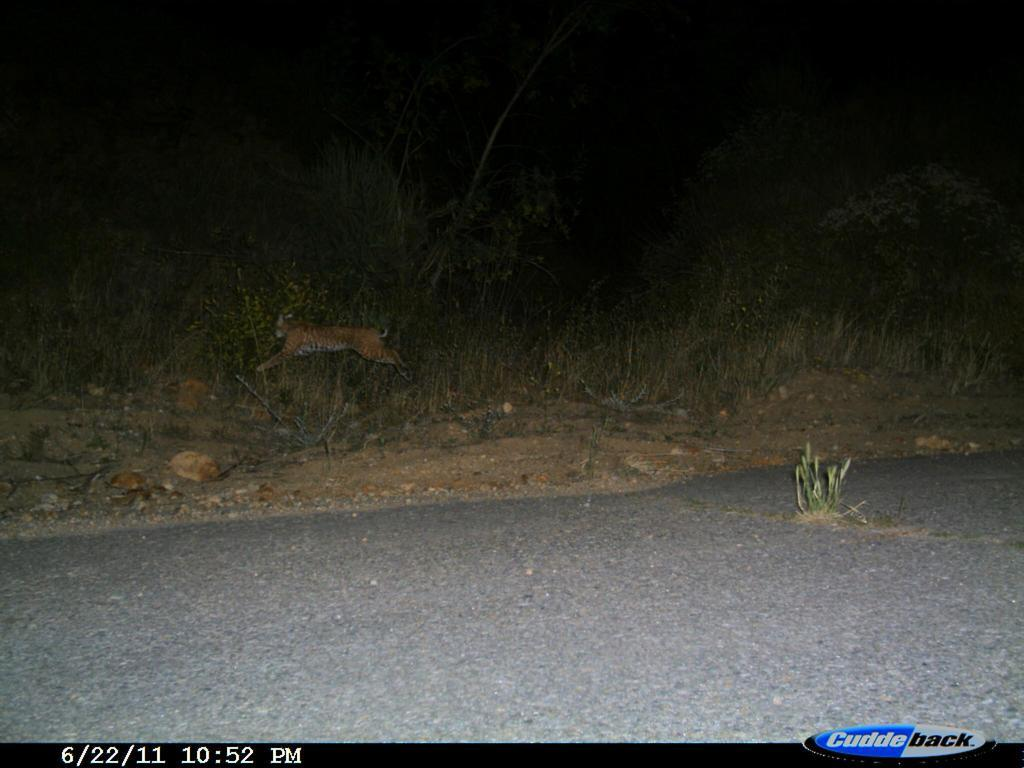bobcat: (232, 296, 442, 399)
